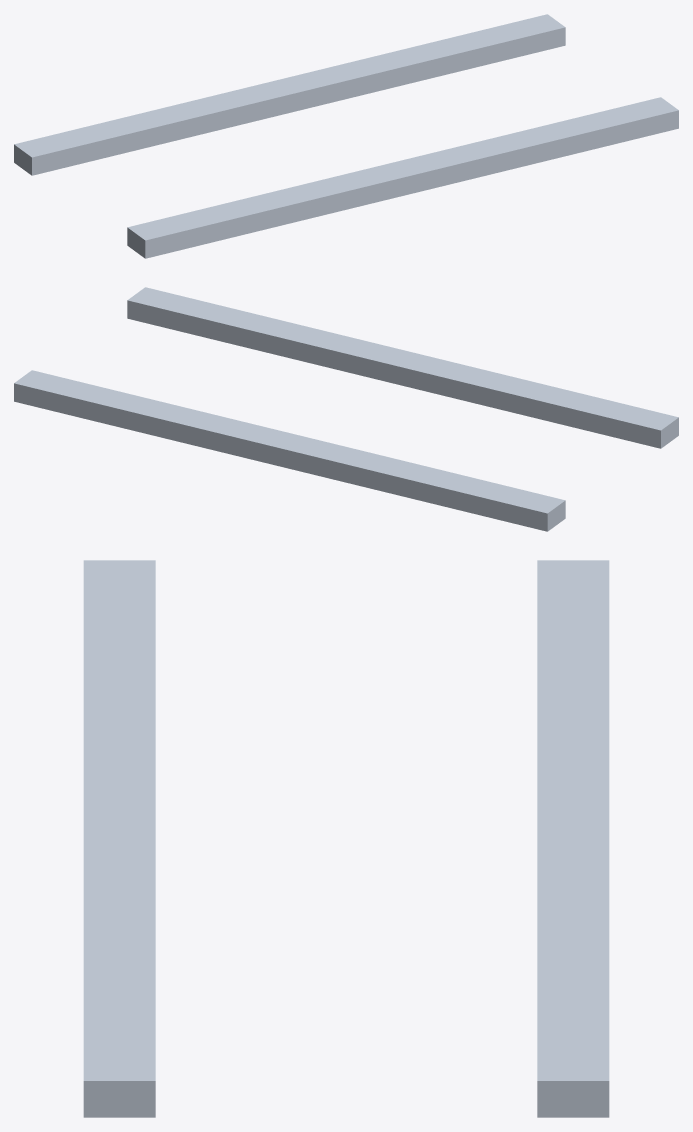
Rendered from trackSimpleStraight.glb.
3 views of the same model, one above another, from view 1: azimuth 30°, elevation 25°; view 2: azimuth 150°, elevation 25°; view 3: azimuth 270°, elevation 25° (orthographic). The views are drawn at different scales.
Visible parts, largest first — view 1: trackSimpleStraight; view 2: trackSimpleStraight; view 3: trackSimpleStraight.
Boxes of the visible parts, x1=… form: trackSimpleStraight: x1=14, y1=14, x2=678, y2=258; trackSimpleStraight: x1=14, y1=287, x2=678, y2=531; trackSimpleStraight: x1=83, y1=560, x2=609, y2=1117.
Size of the model in its own units: 0.308 by 0.0101 by 0.1313.
